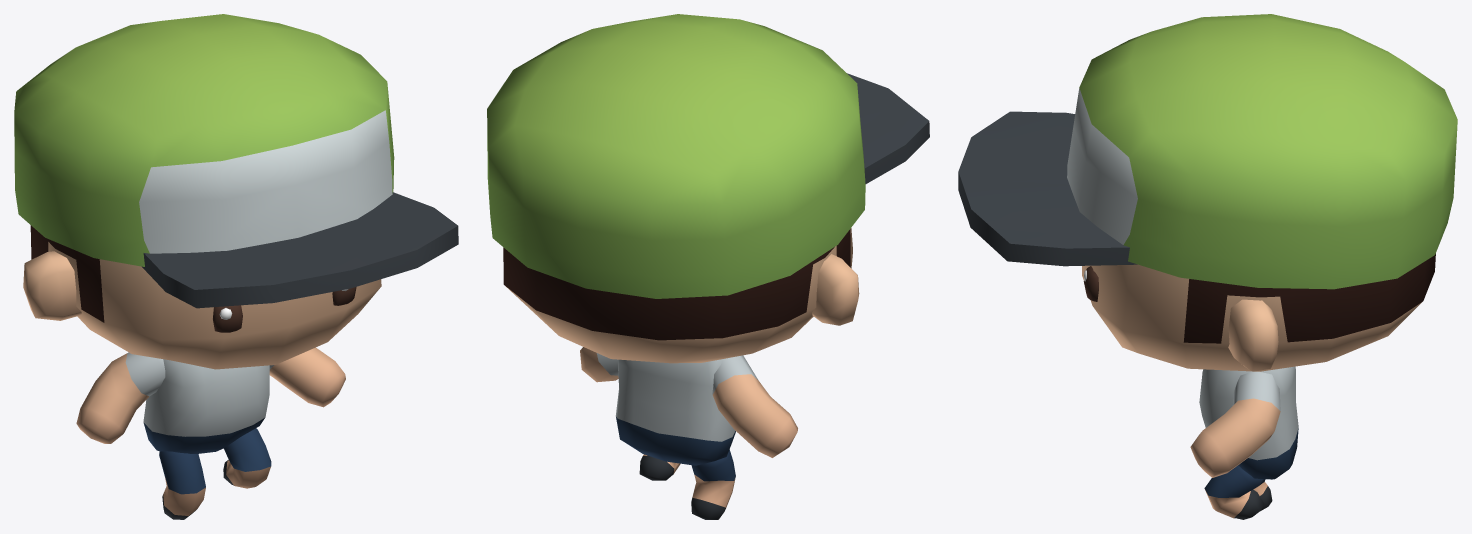
File: run_0014.obj
The picture shows the model from 3 angles, left to right: view 1: azimuth 30°, elevation 25°; view 2: azimuth 150°, elevation 25°; view 3: azimuth 270°, elevation 25°; orthographic projection. The views are drawn at different scales.
Parts seen in each view (by area): view 1: Object_41, Object_42, Object_44, Object_36, Object_38; view 2: Object_41, Object_36, Object_44, Object_42; view 3: Object_41, Object_36, Object_42, Object_44.
Part boxes in pixels (x1=…): Object_41: x1=14, y1=14, x2=394, y2=266; Object_42: x1=139, y1=110, x2=458, y2=308; Object_44: x1=76, y1=347, x2=345, y2=519; Object_36: x1=23, y1=225, x2=381, y2=369; Object_38: x1=213, y1=287, x2=356, y2=332; Object_41: x1=487, y1=14, x2=865, y2=298; Object_36: x1=503, y1=228, x2=859, y2=363; Object_44: x1=580, y1=347, x2=797, y2=519; Object_42: x1=847, y1=73, x2=929, y2=183; Object_41: x1=1079, y1=14, x2=1457, y2=289; Object_36: x1=1082, y1=253, x2=1435, y2=371; Object_42: x1=958, y1=88, x2=1137, y2=266; Object_44: x1=1190, y1=366, x2=1298, y2=519.
Size of the model in its own units: 0.9691 by 1.21 by 1.14.
